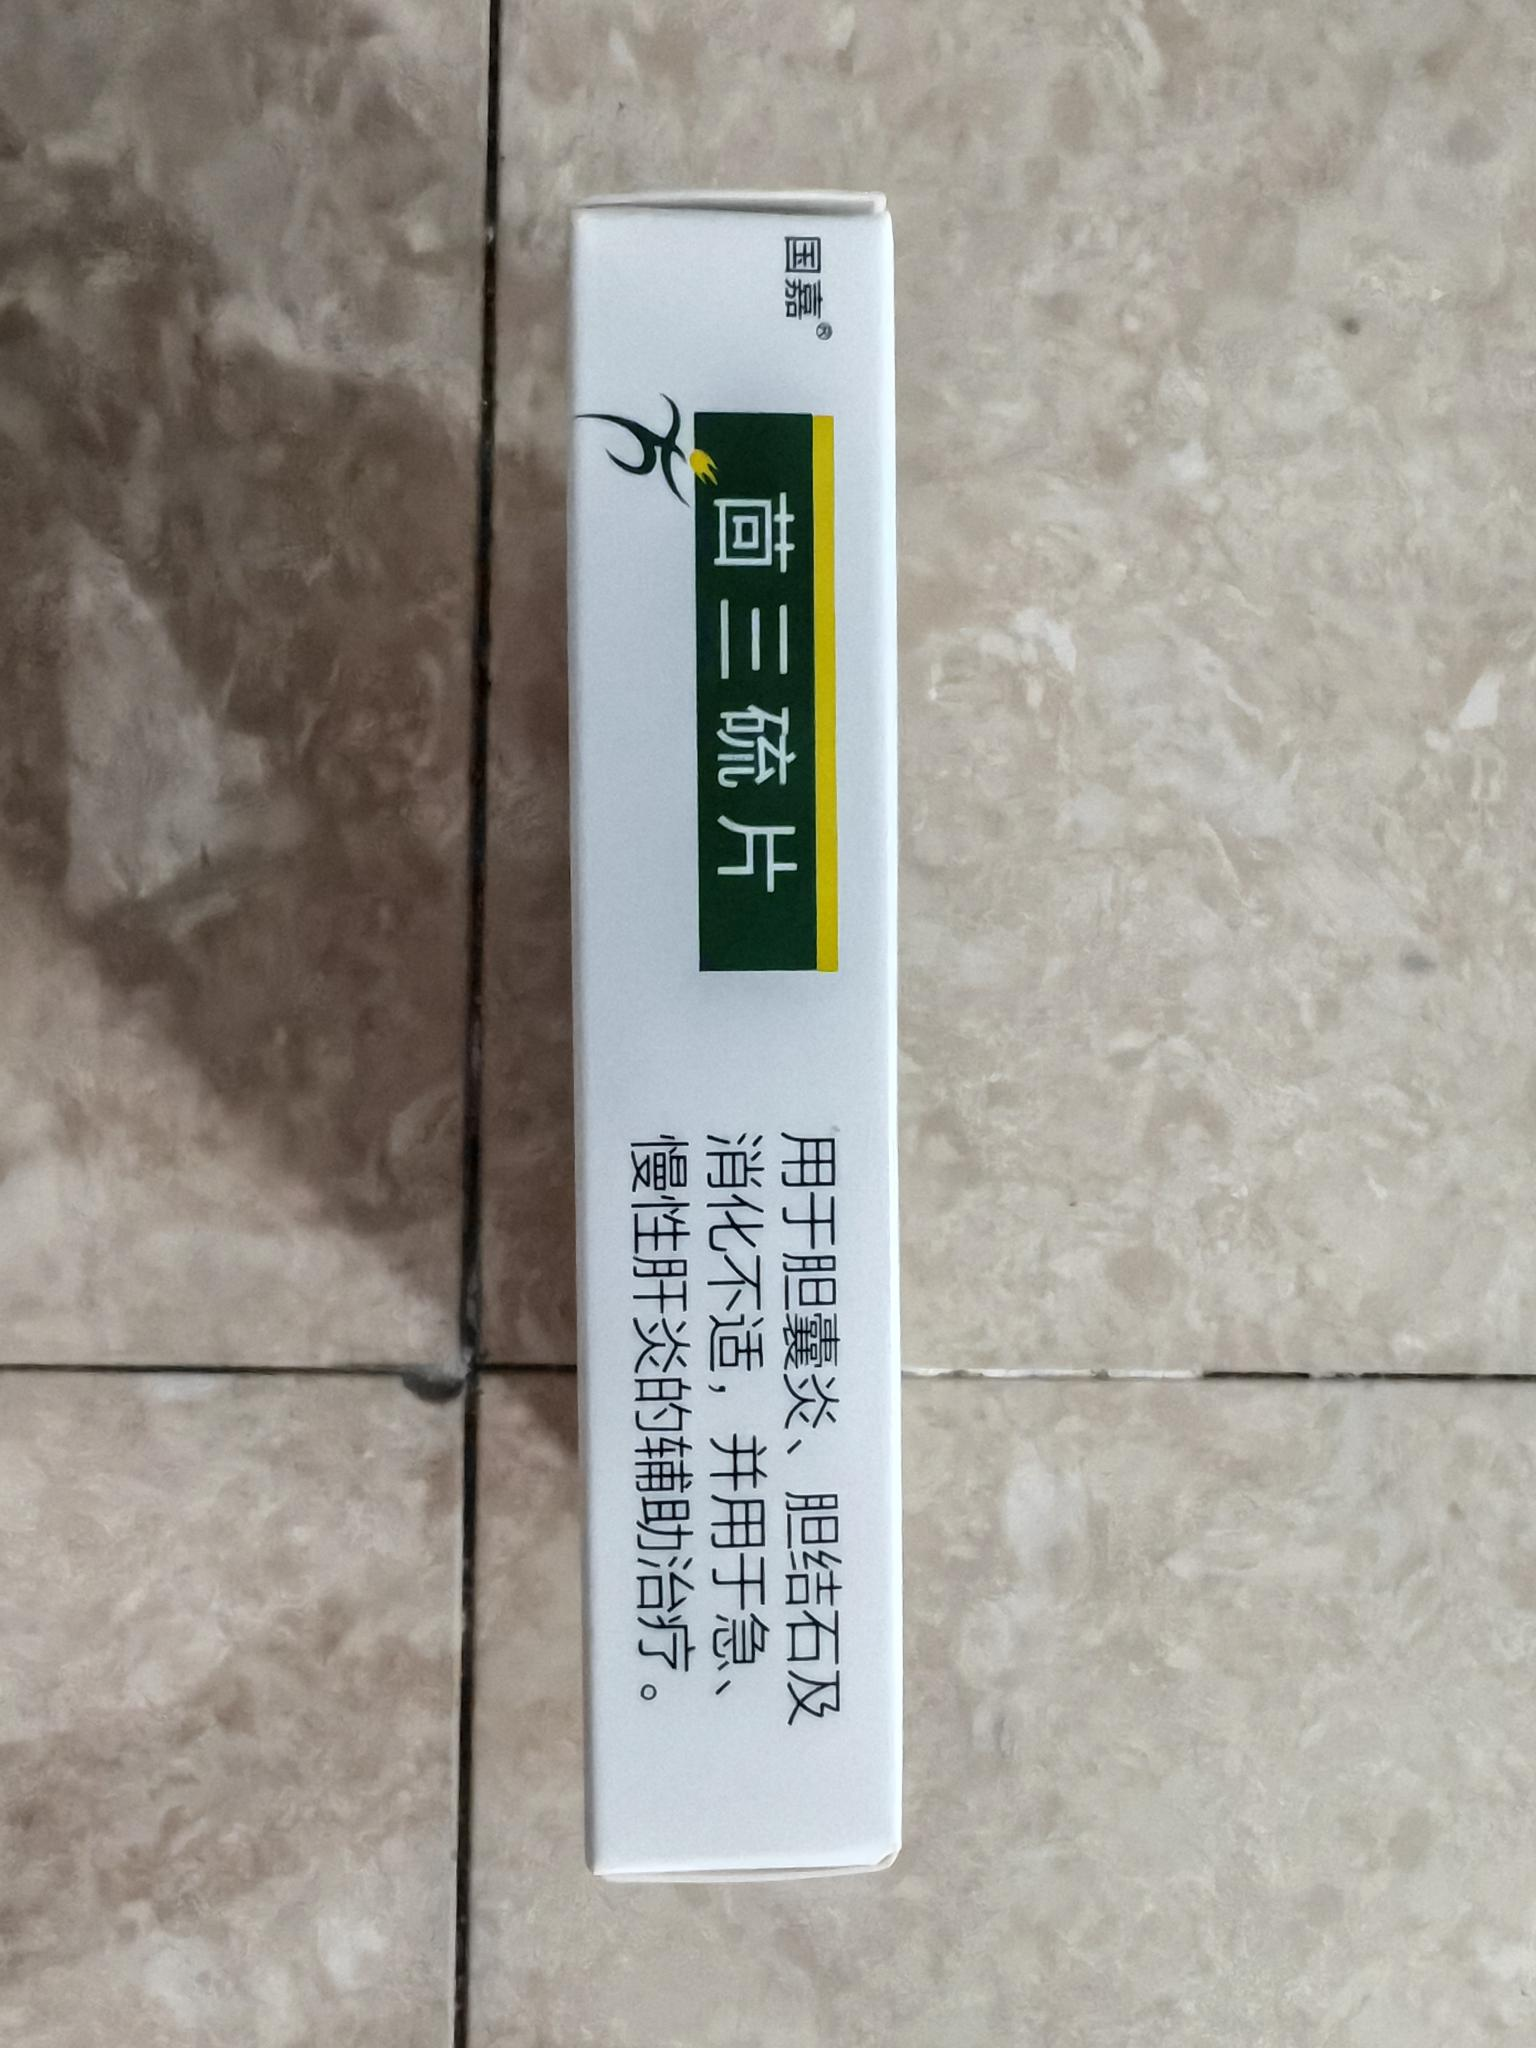Medicine4: (539, 176, 944, 1913)
